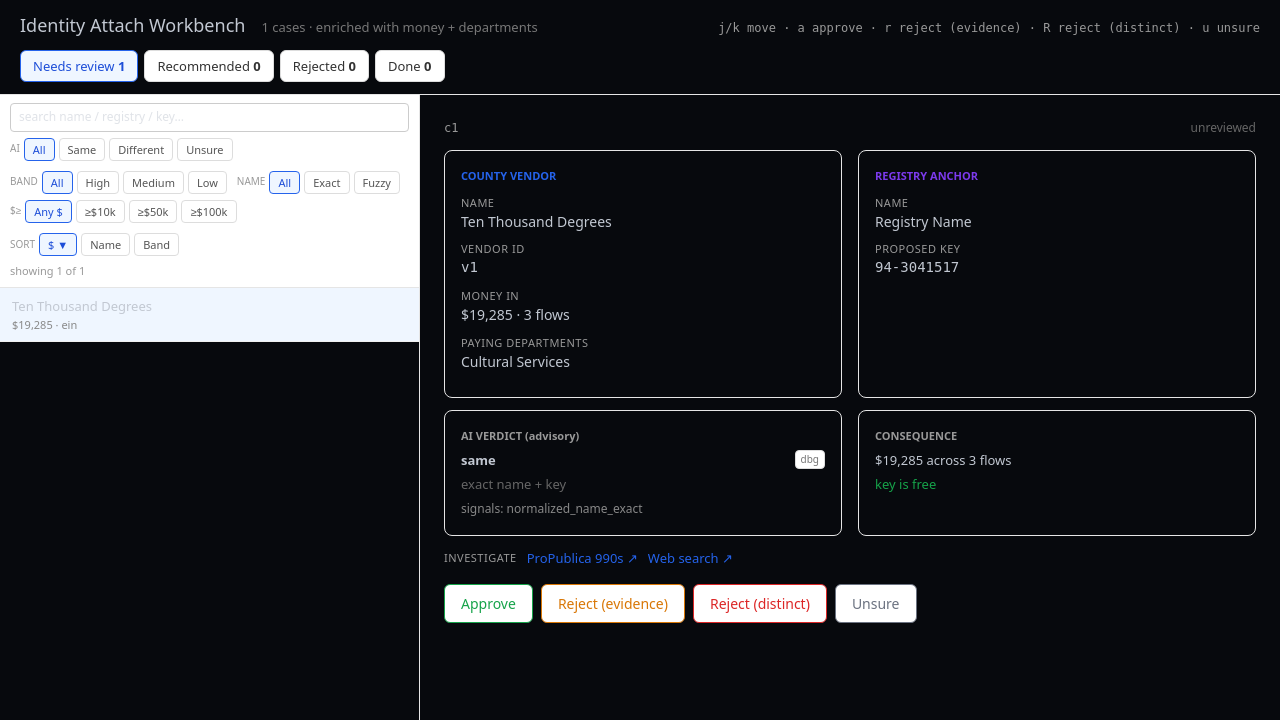
Scenario: Bench › surfaces a non-JSON error response and reverts the optimistic move
The image size is (1280, 720).
Click the button "Approve": (488, 604) [444,584,533,623]
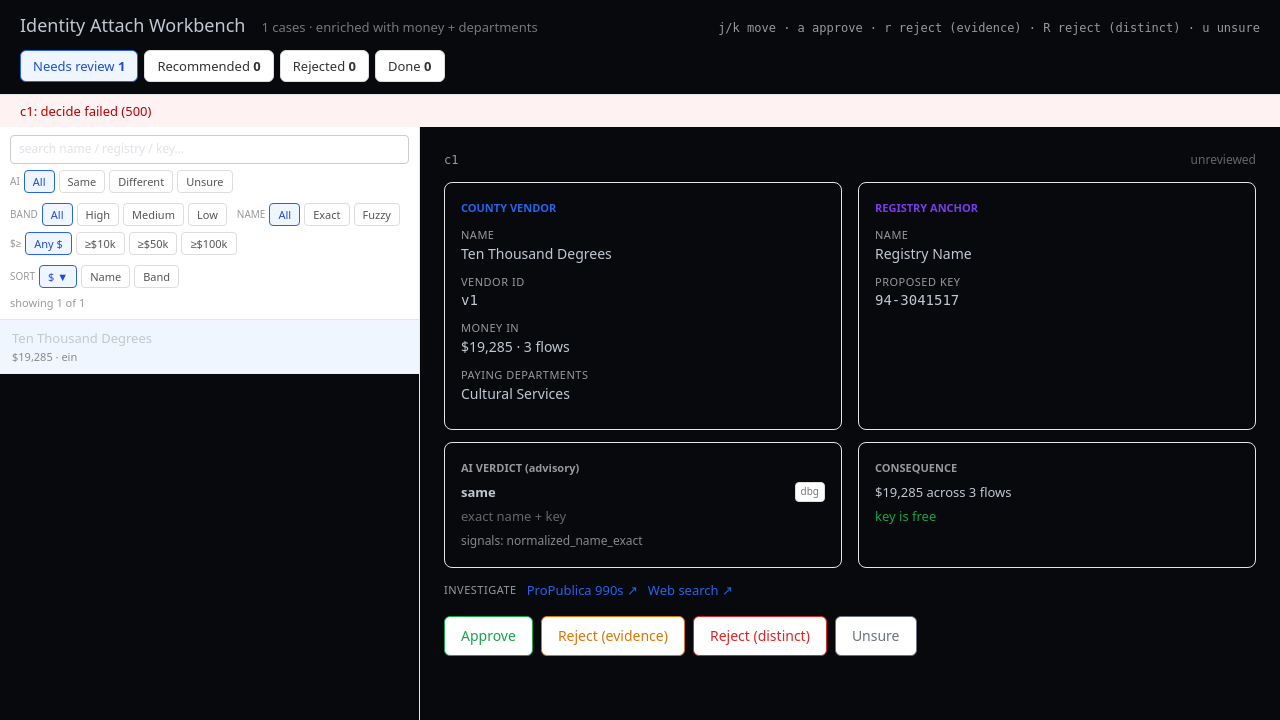
Expected: the button with test id "tab-needsReview" shows "1", [20,50,138,82]
Expected: the message shows "500", [20,102,152,120]
